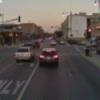cars: (39, 47, 59, 66)
